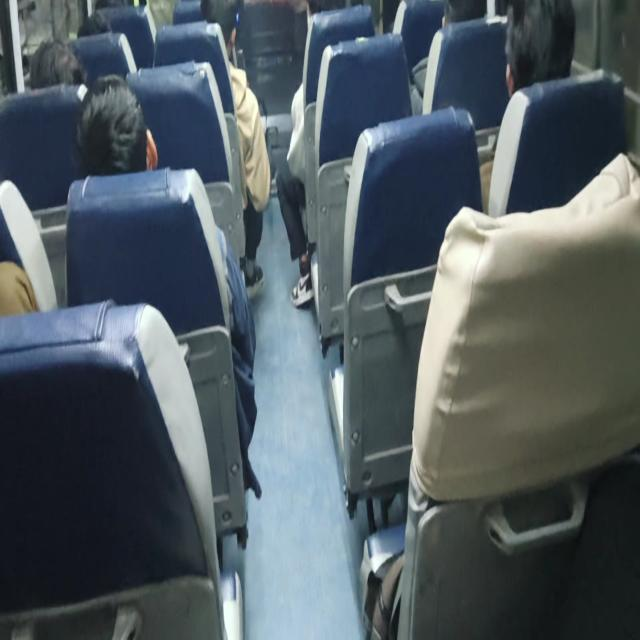person: (499, 6, 575, 95), (89, 95, 156, 162), (32, 34, 94, 96), (197, 0, 241, 46), (436, 0, 488, 29)
